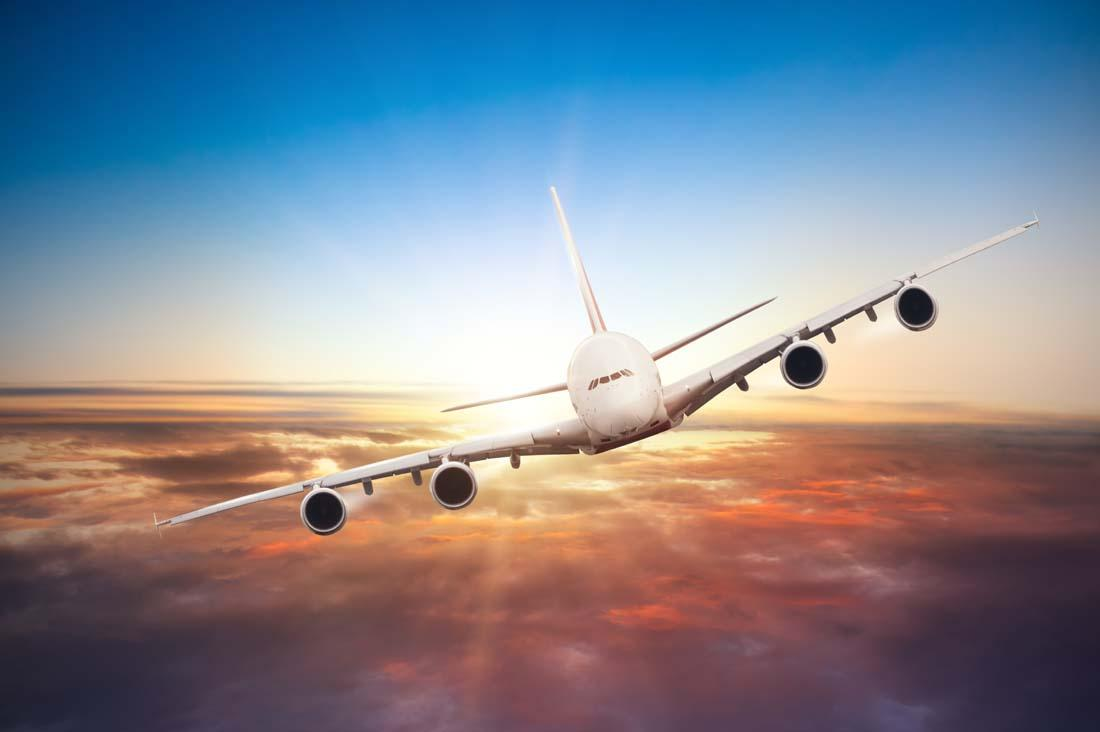airplane: (150, 184, 1046, 562)
